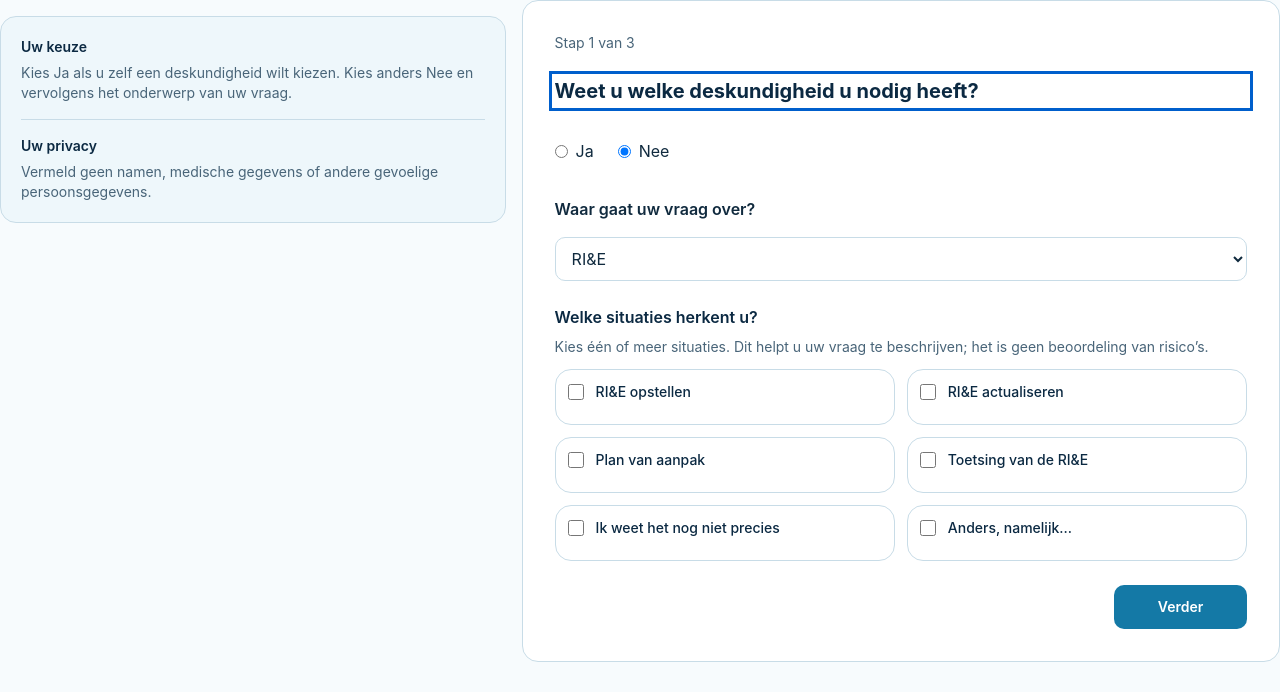
Test: thema-afhankelijke situaties › negeert situaties van een ander account en blijft een oude conceptomschrijving behouden
Expected: the checkbox labelled "RI&E actualiseren" is not checked, [920, 384, 936, 400]
Step 1. Click the checkbox labelled "Plan van aanpak" → (576, 460), box [568, 452, 584, 468]
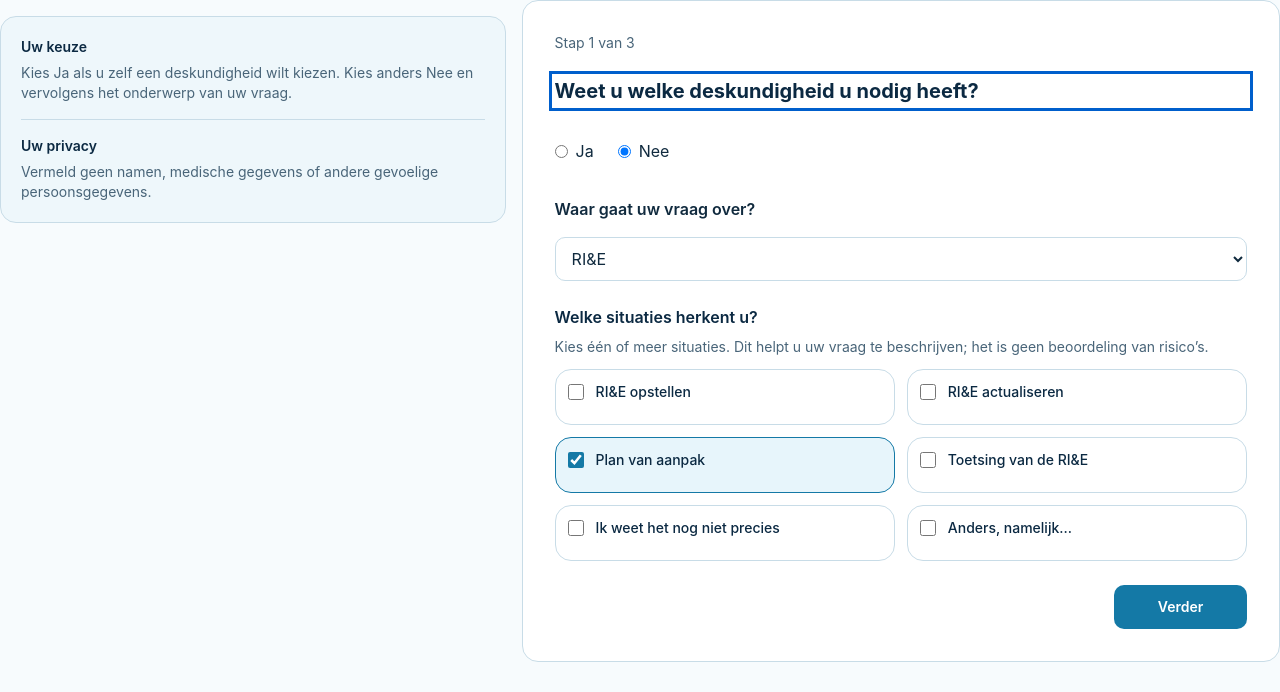
Step 2. Click the button "Verder" → (1181, 607), box [1114, 585, 1247, 629]
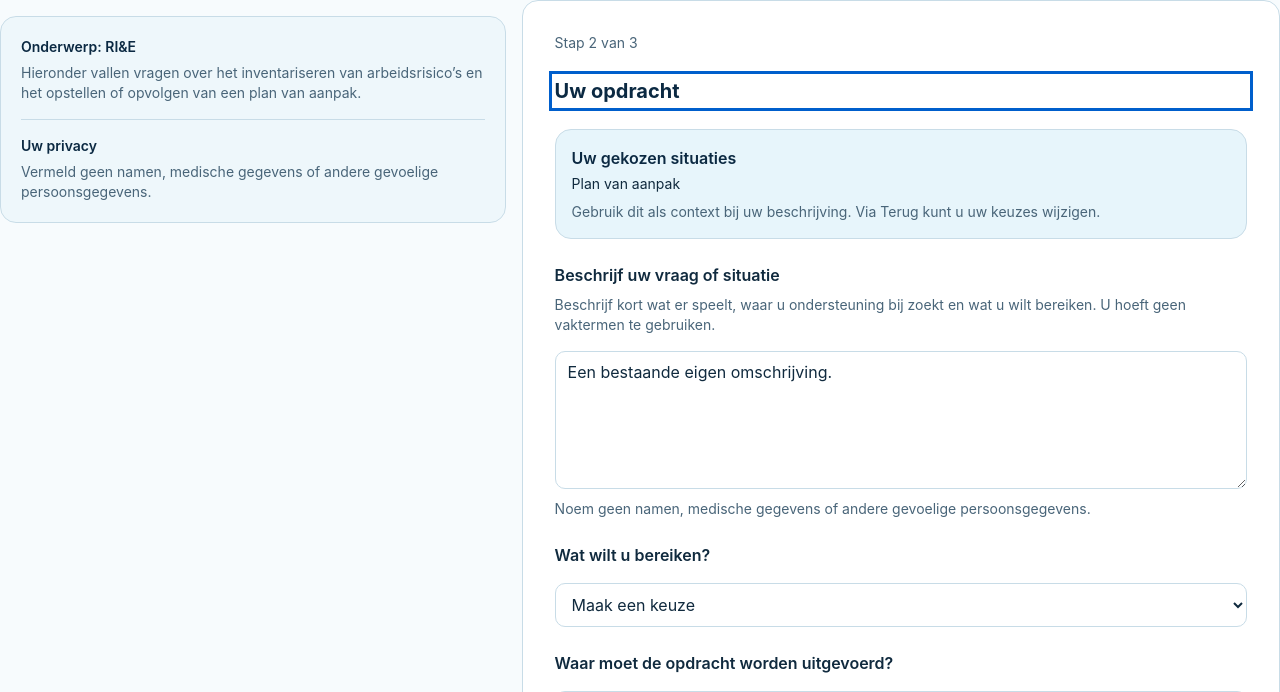
Now the text box labelled "Beschrijf uw vraag of situatie" holds "Een bestaande eigen omschrijving.", box [555, 351, 1247, 489]
